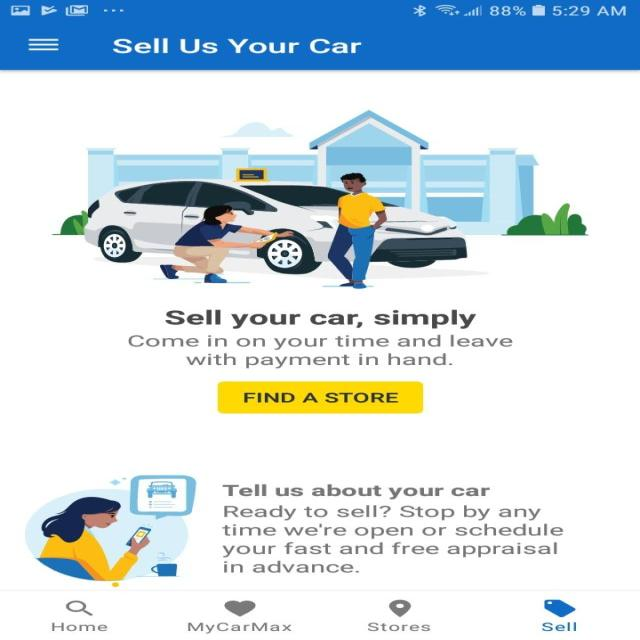Icon: (543, 599, 575, 617), (223, 600, 256, 616), (64, 599, 94, 616), (27, 38, 59, 51), (388, 599, 410, 617)
Image: (51, 110, 588, 290), (23, 474, 196, 587)
Text: (222, 504, 564, 572), (128, 334, 513, 368), (164, 309, 476, 329), (221, 483, 490, 500), (112, 37, 362, 54), (188, 621, 292, 634), (367, 621, 430, 631), (52, 621, 108, 631), (541, 621, 576, 631)
TextButton: (217, 381, 423, 414)
